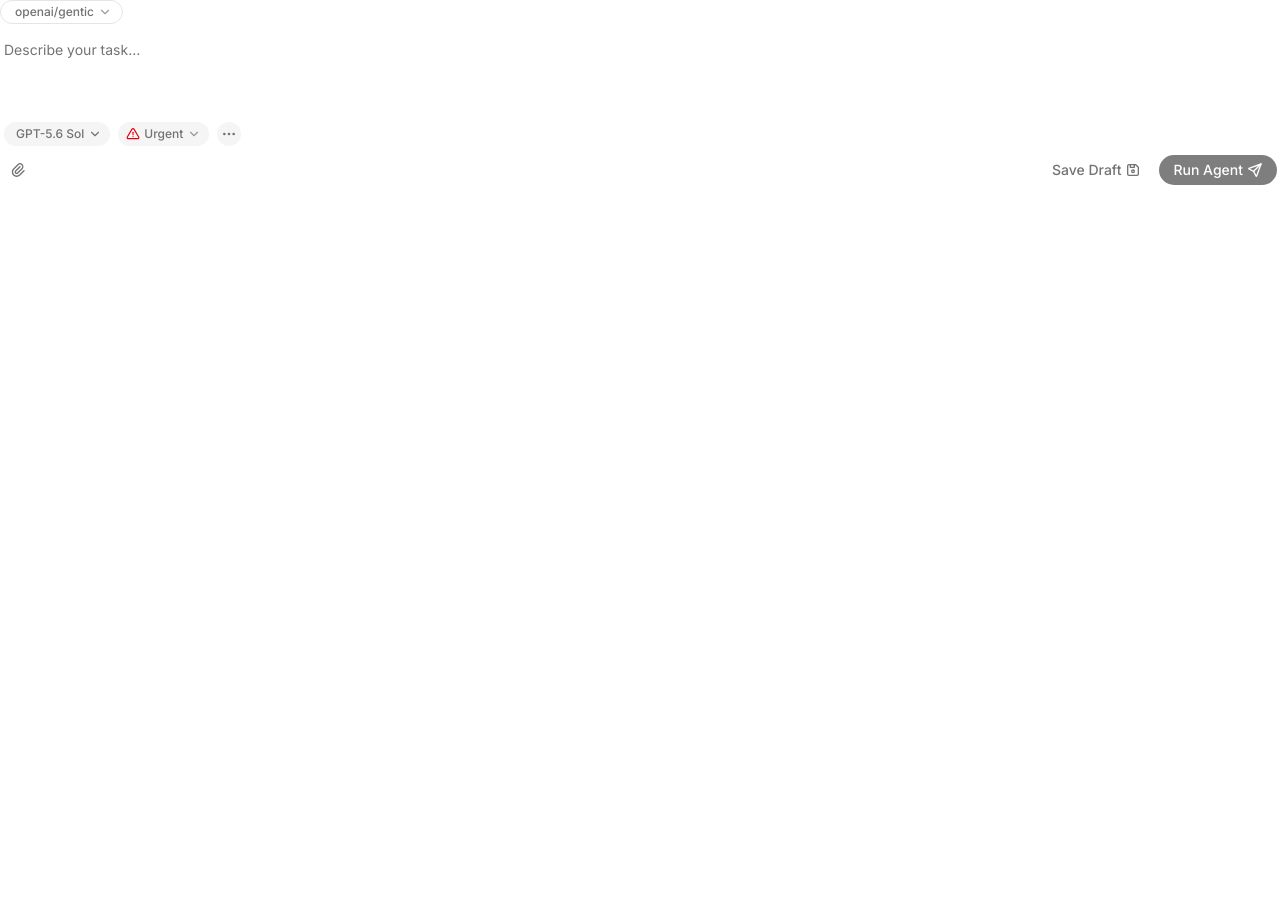
Scenario: IssueCreateForm › restores stored settings from browser storage on mount
The image size is (1280, 900).
Expected: the text "openai/gentic" is shown, [15,4,94,20]
Expected: the text "Urgent" is shown, [144,126,183,142]
Click the button named "More options". click: (229, 134)
box: [217,122,241,146]
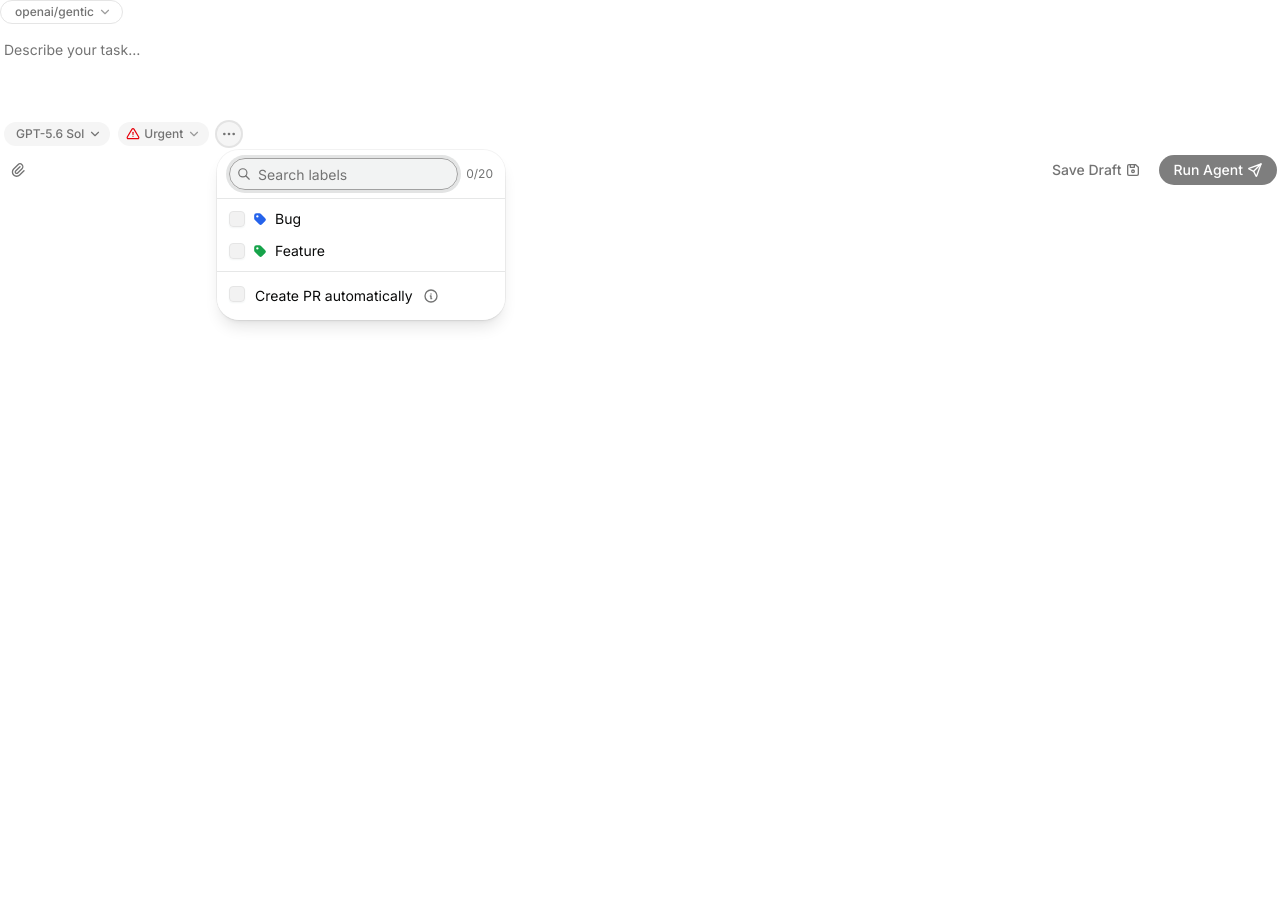
Now the checkbox named "Create PR automatically" next to "Create PR automatically" is not checked, box [229,286,245,302]
